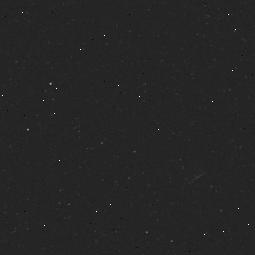debris: (181, 153, 211, 187)
